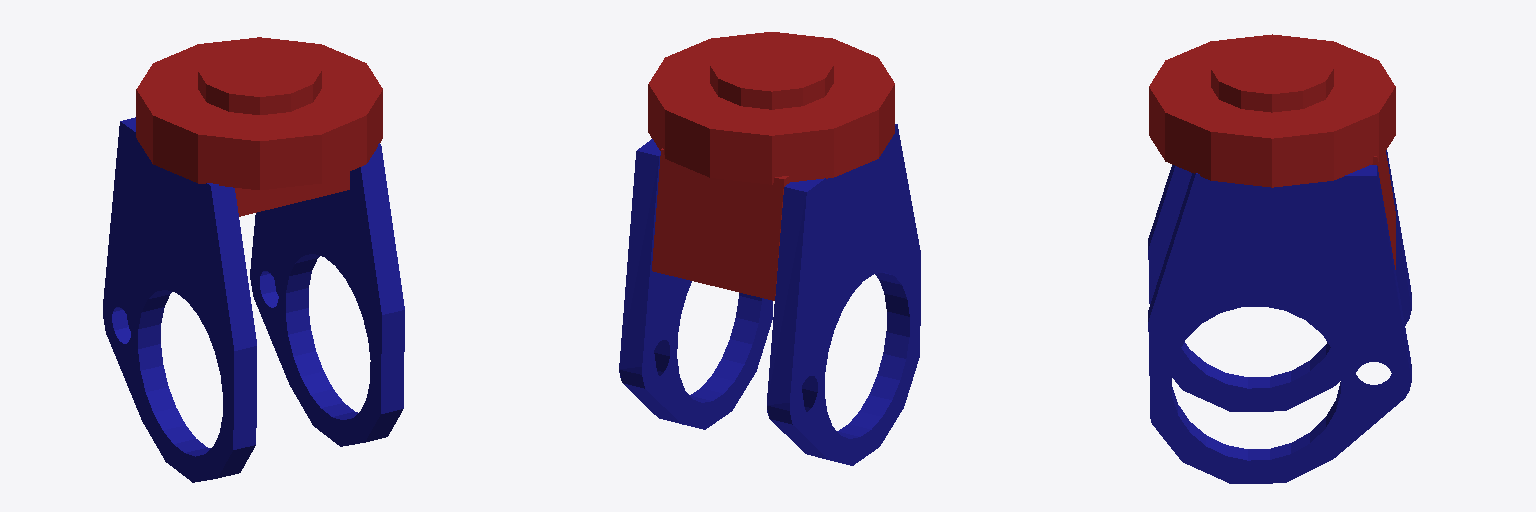
Rendered from L_HAA.obj.
3 renders of one model, left to right at view 1: azimuth 30°, elevation 25°; view 2: azimuth 150°, elevation 25°; view 3: azimuth 270°, elevation 25°, orthographic.
Bounding box in the file's own units: 4.06 × 6.82 × 4.34.